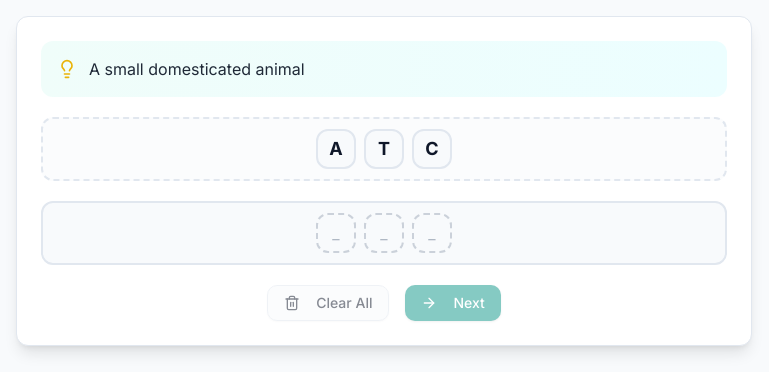
WordBuilderPlayer › letter placement (click-to-place) › places letter when clicked in letter bank
Note: Click a letter in the letter bank
Click the button "t" at (384, 149), box [364, 129, 404, 169]
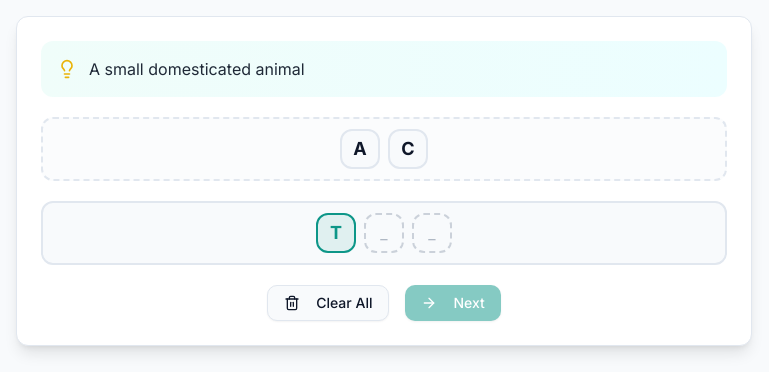
Check: the text "_" is shown 2 times, box [364, 213, 404, 253]; [412, 213, 452, 253]
